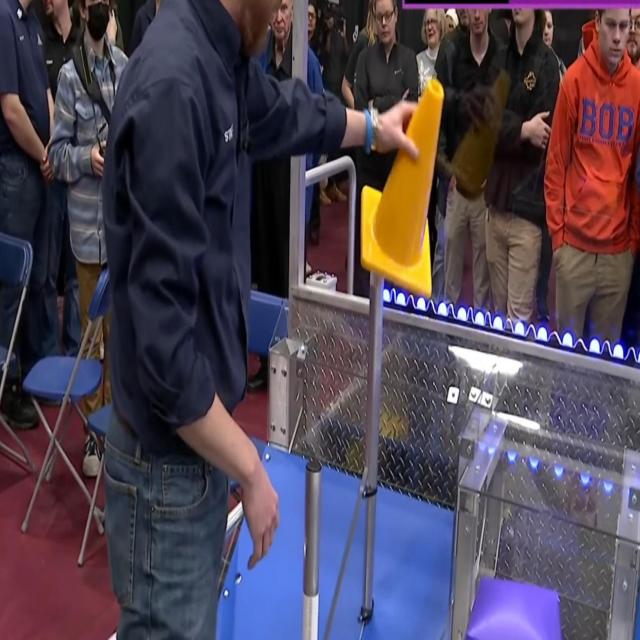frc_cone: (358, 75, 443, 297)
frc_cube: (463, 580, 562, 640)
